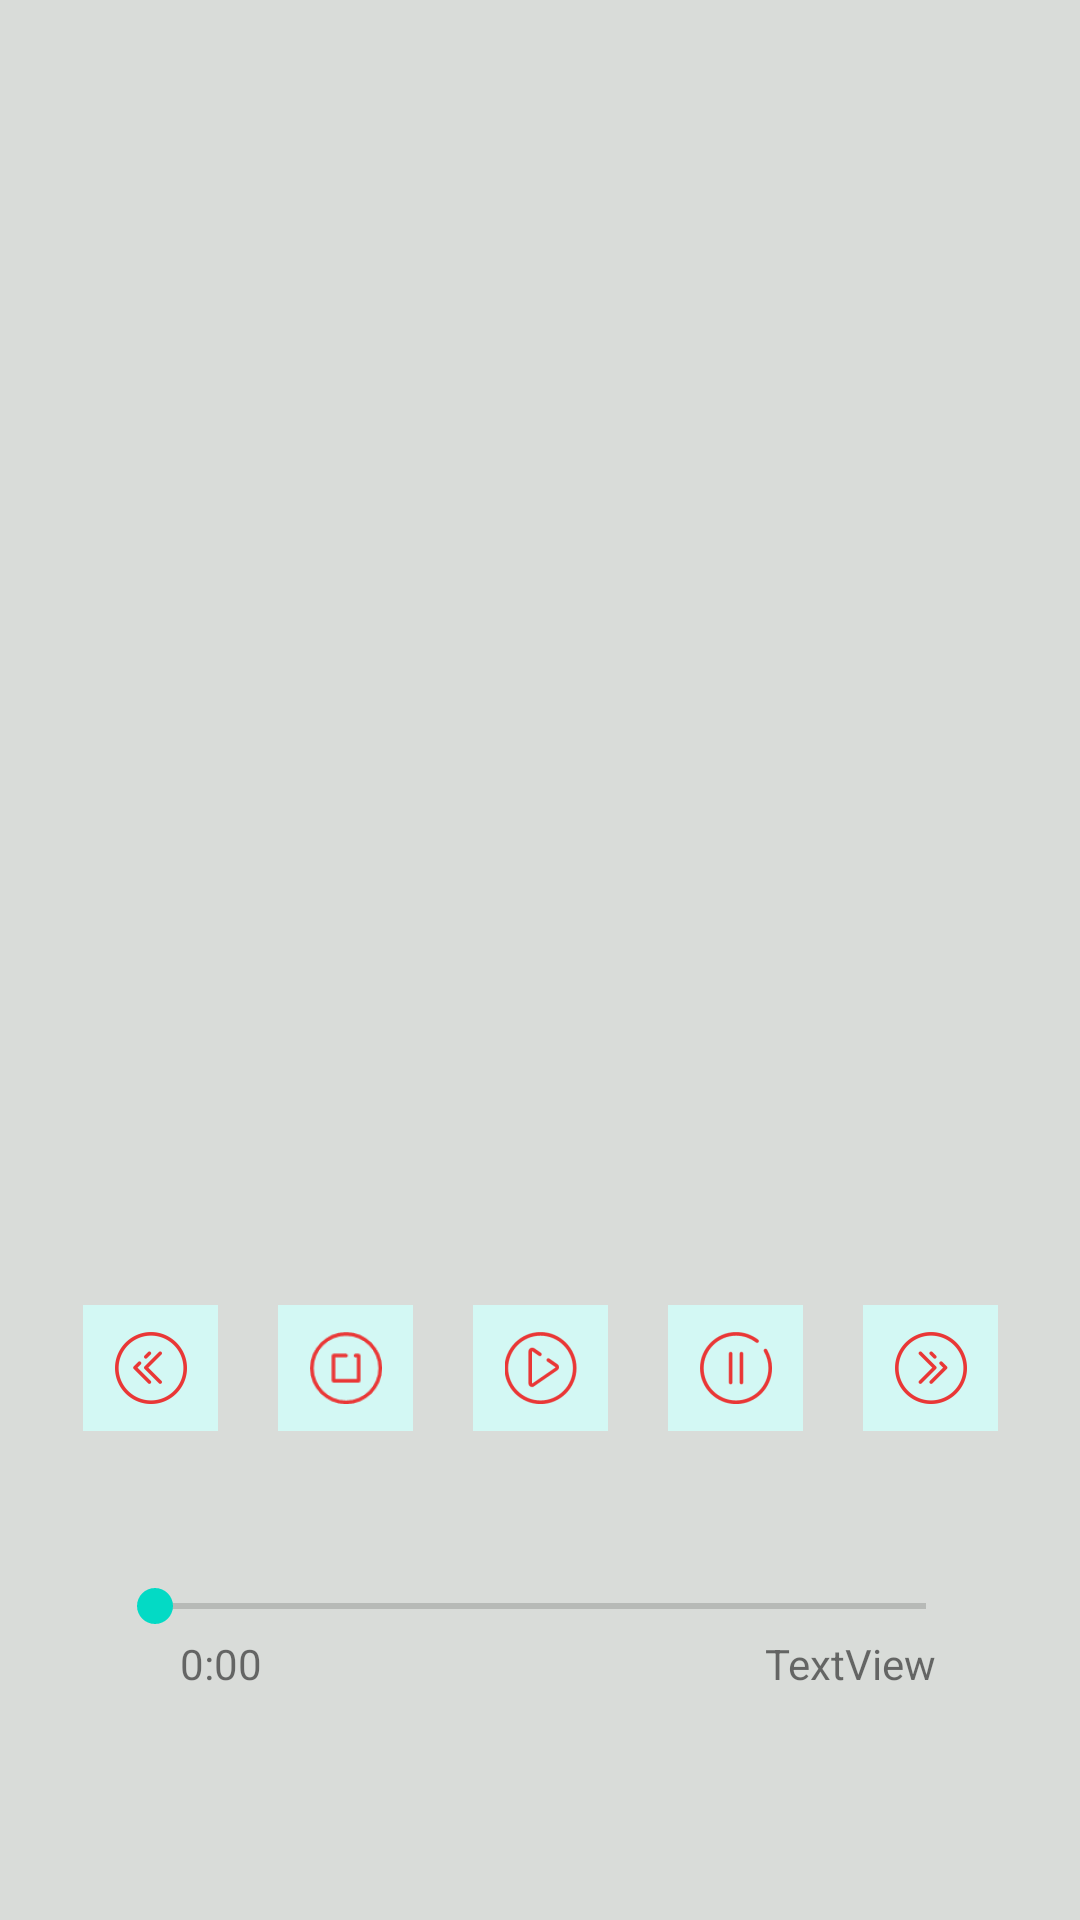

Icon click points for this 1080 × 1920 phone screenshot, format (x=x, y=y):
next song: (x=930, y=1368)
pause: (x=735, y=1368)
prev song: (x=150, y=1368)
start: (x=540, y=1368)
stop: (x=345, y=1368)
